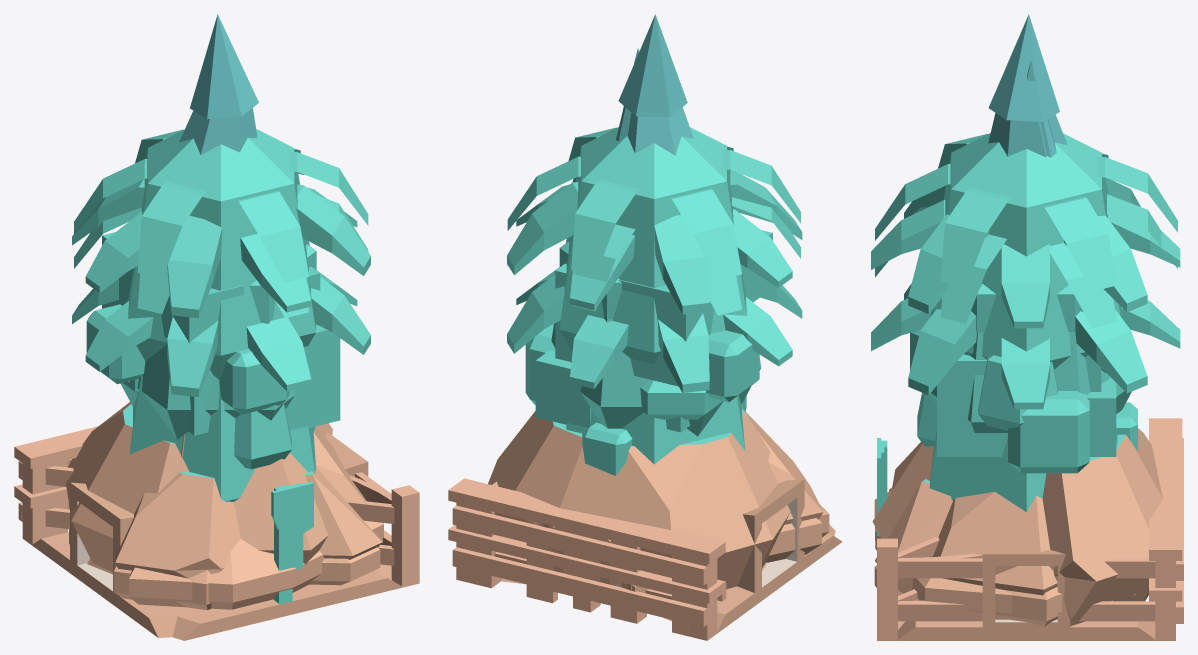
File: nature.glb
3 views of the same model, side by side, from view 1: azimuth 30°, elevation 25°; view 2: azimuth 150°, elevation 25°; view 3: azimuth 270°, elevation 25° (orthographic). The views are drawn at different scales.
Visible parts, largest first — view 1: leafs (×4), tree_default, rock_largeD, rock_largeF, tree_palm, tree_blocks, rock_largeC, tree_fat, tree_pineTallD, crops_dirtDoubleRowCorner, tree_detailed, fence_bend (+18 smaller); view 2: rock_largeD, leafs (×4), tree_default, fence_planks, tree_palm, tree_blocks, fence_simpleHigh, tree_detailed, tree_pineTallD, fence_simpleLow, log_large, tree_oak (+13 smaller); view 3: leafs (×4), rock_largeD, tree_default, tree_palm, rock_largeF, tree_blocks, tree_detailed, tree_pineTallD, fence_corner, tree_palmBend, fence_simpleHigh, tree_fat (+20 smaller).
Part boxes in pixels (x1=…): leafs (×4): x1=72, y1=179, x2=370, y2=397; tree_default: x1=128, y1=129, x2=315, y2=379; rock_largeD: x1=66, y1=402, x2=332, y2=571; rock_largeF: x1=115, y1=426, x2=366, y2=578; tree_palm: x1=74, y1=129, x2=368, y2=282; tree_blocks: x1=102, y1=232, x2=340, y2=435; rock_largeC: x1=129, y1=520, x2=383, y2=609; tree_fat: x1=129, y1=375, x2=315, y2=501; tree_pineTallD: x1=179, y1=14, x2=258, y2=154; crops_dirtDoubleRowCorner: x1=46, y1=547, x2=402, y2=640; tree_detailed: x1=86, y1=304, x2=289, y2=414; fence_bend: x1=23, y1=444, x2=419, y2=587; rock_largeD: x1=488, y1=409, x2=790, y2=589; leafs (×4): x1=507, y1=170, x2=802, y2=392; tree_default: x1=559, y1=127, x2=746, y2=363; fence_planks: x1=452, y1=486, x2=707, y2=636; tree_palm: x1=507, y1=127, x2=800, y2=279; tree_blocks: x1=535, y1=230, x2=772, y2=432; fence_simpleHigh: x1=448, y1=478, x2=725, y2=640; tree_detailed: x1=525, y1=324, x2=759, y2=475; tree_pineTallD: x1=618, y1=14, x2=693, y2=155; fence_simpleLow: x1=448, y1=525, x2=725, y2=637; log_large: x1=737, y1=479, x2=804, y2=605; tree_oak: x1=551, y1=317, x2=761, y2=436; leafs (×4): x1=871, y1=178, x2=1180, y2=409; rock_largeD: x1=872, y1=428, x2=1162, y2=626; tree_default: x1=930, y1=133, x2=1122, y2=372; tree_palm: x1=875, y1=134, x2=1177, y2=291; rock_largeF: x1=892, y1=442, x2=1057, y2=595; tree_blocks: x1=937, y1=307, x2=1116, y2=456; tree_detailed: x1=910, y1=330, x2=1137, y2=473; tree_pineTallD: x1=988, y1=14, x2=1067, y2=157; fence_corner: x1=898, y1=538, x2=1175, y2=621; tree_palmBend: x1=875, y1=194, x2=1177, y2=327; fence_simpleHigh: x1=1149, y1=418, x2=1182, y2=640; tree_fat: x1=929, y1=373, x2=1117, y2=511.
Bounding box in the file's own units: 4.38 × 8.3 × 4.18.
